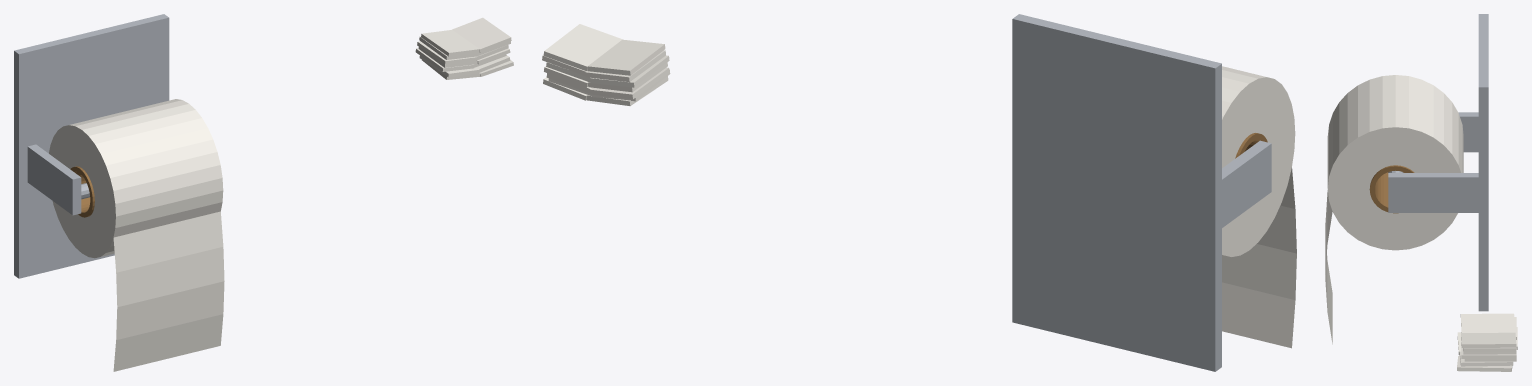
The model's file is tissue-props.glb.
3 renders of one model, left to right at view 1: azimuth 30°, elevation 25°; view 2: azimuth 150°, elevation 25°; view 3: azimuth 270°, elevation 25°, orthographic. The views are drawn at different scales.
Visible parts, largest first — view 1: SM_TissueHolder, SM_TissueRoll, SM_TissueTail, SM_TissueSheet; view 2: SM_TissueHolder, SM_TissueRoll, SM_TissueTail, SM_TissueSheet; view 3: SM_TissueRoll, SM_TissueHolder, SM_TissueSheet, SM_TissueTail.
Part boxes in pixels (left/top/right/bottom): SM_TissueHolder: left=14, top=14, right=169, bottom=278; SM_TissueRoll: left=49, top=99, right=223, bottom=258; SM_TissueTail: left=113, top=211, right=224, bottom=371; SM_TissueSheet: left=415, top=17, right=513, bottom=79; SM_TissueHolder: left=1012, top=14, right=1271, bottom=371; SM_TissueRoll: left=1222, top=66, right=1295, bottom=256; SM_TissueTail: left=1222, top=168, right=1296, bottom=348; SM_TissueSheet: left=542, top=24, right=670, bottom=105; SM_TissueRoll: left=1327, top=75, right=1463, bottom=250; SM_TissueHolder: left=1388, top=14, right=1488, bottom=311; SM_TissueSheet: left=1457, top=313, right=1517, bottom=371; SM_TissueTail: left=1325, top=190, right=1332, bottom=344.
Size of the model in its own units: 0.4529 by 0.24 by 0.1556.
